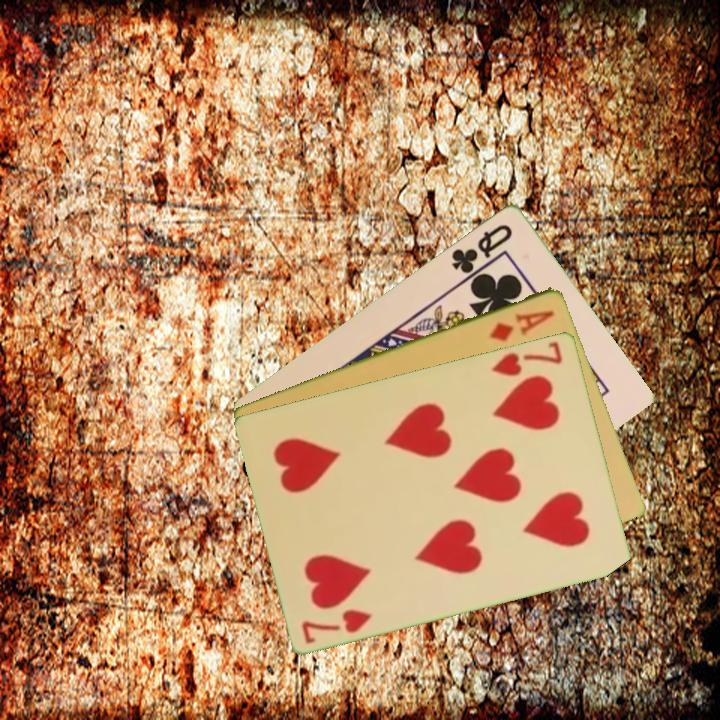7h: (488, 337, 566, 379), (298, 605, 376, 646)
Ad: (485, 306, 558, 344)
Qc: (448, 220, 516, 276)
